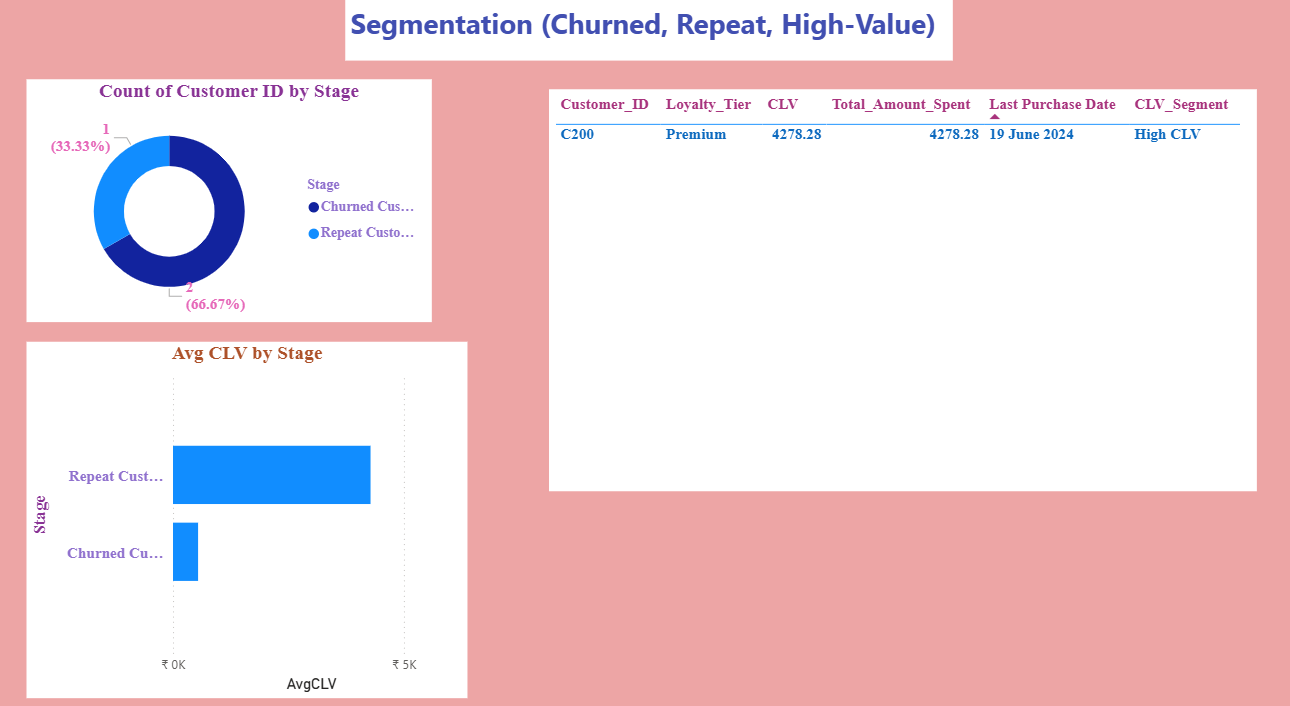

The page's visual inventory and layout, read from the dashboard file:
{"tool":"powerbi","page":{"name":"Task 7-Page 4","canvas":[1280,720],"ordinal":18},"visuals":[{"type":"tableEx","fields":{"Values":["Customer_Demographics_Merged.Customer_ID","Customer_Demographics_Merged.Loyalty_Tier","Customer_Demographics_Merged.CLV","Customer_Demographics_Merged.Total_Amount_Spent","Customer_Demographics_Merged.Last Purchase Date","Customer_Demographics_Merged.CLV_Segment"]},"box":[559.4,102.5,683.5,388.2],"z":0},{"type":"donutChart","title":"Count of Customer ID by Stage","fields":{"Category":["Customer_Demographics_Merged.Stage"],"Y":["CountNonNull(Customer_Demographics_Merged.Customer_ID)"]},"box":[55.3,93,390.9,234.6],"z":1000},{"type":"barChart","title":"Avg CLV by Stage","fields":{"Category":["Customer_Demographics_Merged.Stage"],"Y":["Measure.AvgCLV"]},"box":[55.3,346.4,426,343.7],"z":2000},{"type":"textbox","box":[362.6,16.2,586.4,59.3],"z":2005}]}

Visuals, with their boxes in screenshot pixels (x1, y1, x2, y2), scaled from the page's 1280x720 canvas onto the 1290x706 screenshot:
tableEx - Customer_Demographics_Merged.Customer_ID x Customer_Demographics_Merged.Loyalty_Tier: <region>564, 101, 1253, 481</region>
"Count of Customer ID by Stage" donutChart: <region>56, 91, 450, 321</region>
"Avg CLV by Stage" barChart: <region>56, 340, 485, 677</region>
textbox: <region>365, 16, 956, 74</region>
